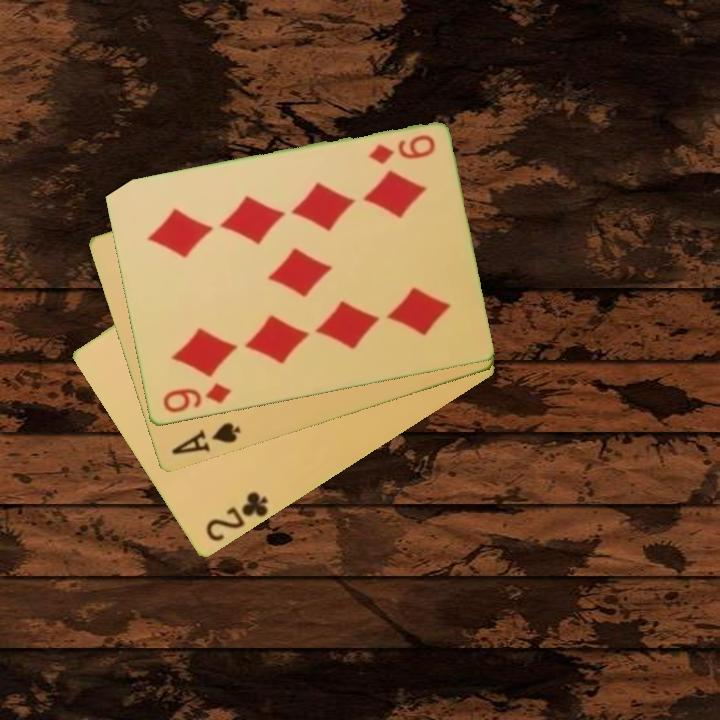2c: (202, 488, 271, 545)
9d: (159, 379, 234, 416), (364, 131, 438, 168)
As: (168, 419, 244, 458)
